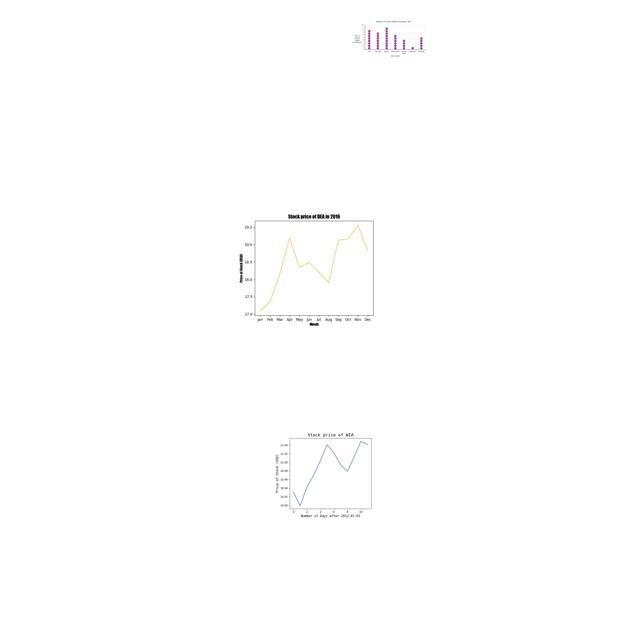Graph: (230, 206, 394, 329), (268, 427, 390, 519), (352, 20, 426, 58)
